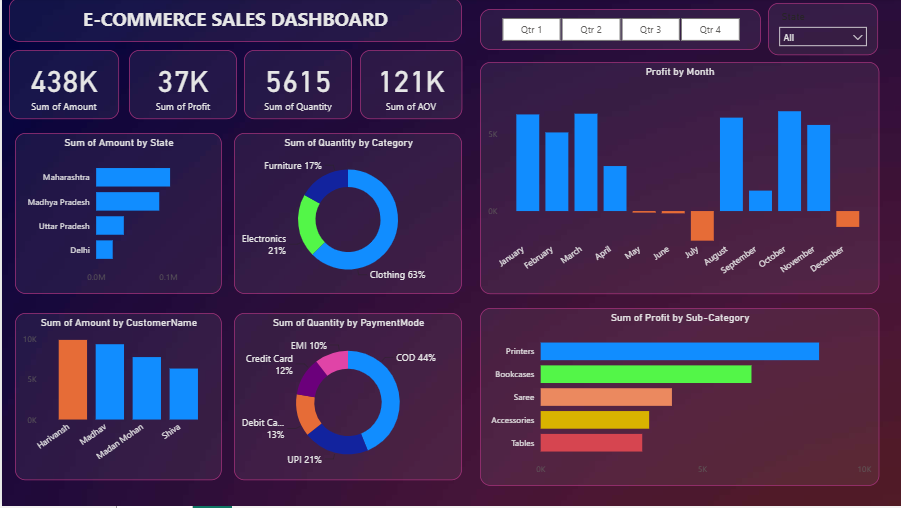

What the dashboard file says about the page in this screenshot:
{"tool":"powerbi","page":{"name":"Page 1","canvas":[1280,720],"ordinal":0},"visuals":[{"type":"textbox","box":[9.9,0,642,62.4],"z":0},{"type":"columnChart","title":"Profit by Month","fields":{"Category":["Orders.Order Date.Variation.Date Hierarchy.Month"],"Y":["Sum(Details.Profit)"]},"box":[677.5,90.7,565.5,328.8],"z":1000},{"type":"barChart","fields":{"Category":["Details.Sub-Category"],"Y":["Sum(Details.Profit)"]},"box":[677.5,439.4,565.5,252.3],"z":2000},{"type":"donutChart","fields":{"Category":["Details.Category"],"Y":["Sum(Details.Quantity)"]},"box":[328.8,191.3,323.1,228.2],"z":3000},{"type":"donutChart","fields":{"Category":["Details.PaymentMode"],"Y":["Sum(Details.Quantity)"]},"box":[328.8,446.5,323.1,236.7],"z":4000},{"type":"card","fields":{"Values":["Sum(Details.Amount)"]},"box":[9.9,73.7,155.9,97.8],"z":5000},{"type":"card","fields":{"Values":["Sum(Details.AOV)"]},"box":[507.4,73.7,144.6,97.8],"z":6000},{"type":"card","fields":{"Values":["Sum(Details.Quantity)"]},"box":[343,73.7,153.1,97.8],"z":7000},{"type":"card","fields":{"Values":["Sum(Details.Profit)"]},"box":[180,73.7,153.1,97.8],"z":8000},{"type":"barChart","fields":{"Category":["Orders.State"],"Y":["Sum(Details.Amount)"]},"box":[18.4,191.3,293.4,228.2],"z":9000},{"type":"columnChart","fields":{"Category":["Orders.CustomerName"],"Y":["Sum(Details.Amount)"]},"box":[18,446,293,237],"z":10000},{"type":"slicer","fields":{"Values":["Orders.Order Date.Variation.Date Hierarchy.Quarter"]},"box":[677.5,16.2,397.5,57.5],"z":11000},{"type":"slicer","fields":{"Values":["Orders.State"]},"box":[1086.2,7.5,156.2,73.8],"z":12000}]}

Visuals, with their boxes in screenshot pixels (x1, y1, x2, y2), scaled from the page's 1280x720 canvas onto the 901x508 screenshot:
textbox: 7 0 459 44
"Profit by Month" columnChart: 477 64 875 296
barChart - Details.Sub-Category x Sum(Details.Profit): 477 310 875 488
donutChart - Details.Category x Sum(Details.Quantity): 231 135 459 296
donutChart - Details.PaymentMode x Sum(Details.Quantity): 231 315 459 482
card - Sum(Details.Amount): 7 52 117 121
card - Sum(Details.AOV): 357 52 459 121
card - Sum(Details.Quantity): 241 52 349 121
card - Sum(Details.Profit): 127 52 234 121
barChart - Orders.State x Sum(Details.Amount): 13 135 219 296
columnChart - Orders.CustomerName x Sum(Details.Amount): 13 315 219 482
slicer - Orders.Order Date.Variation.Date Hierarchy.Quarter: 477 11 757 52
slicer - Orders.State: 765 5 875 57
